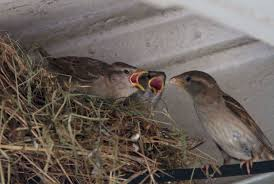hsparrow: (168, 70, 274, 173), (32, 44, 145, 98)
